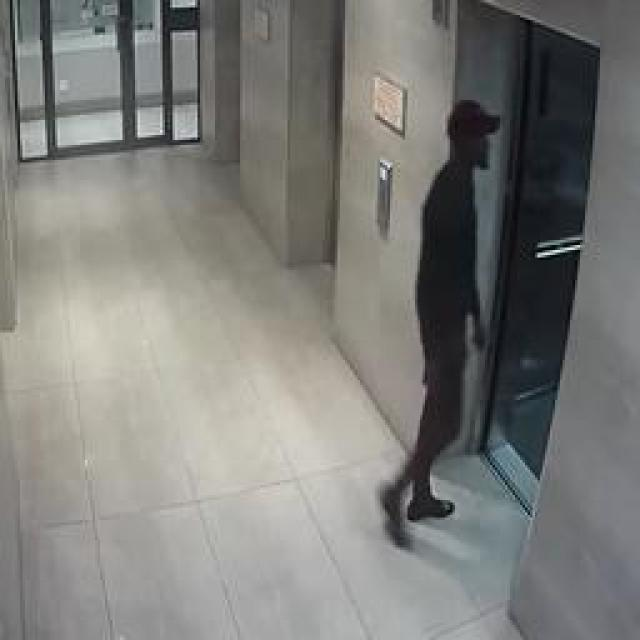person: (360, 65, 512, 557)
